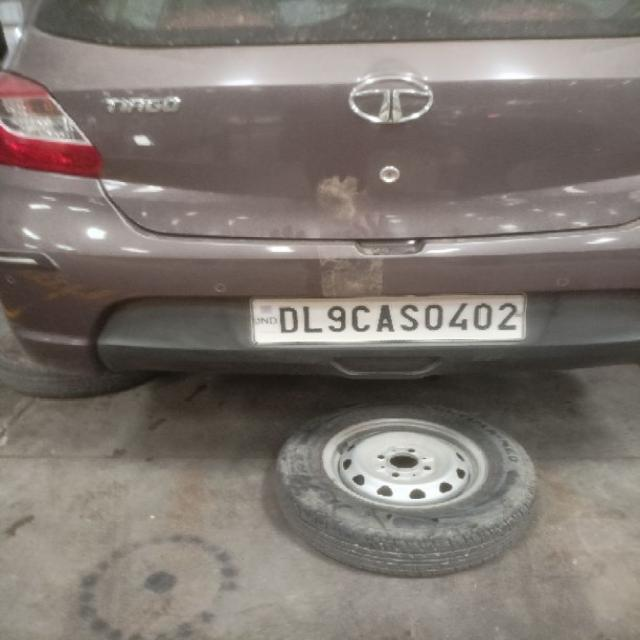license_plate: (248, 292, 527, 345)
